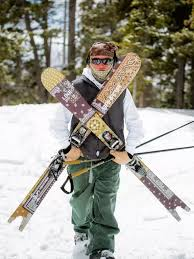skis: (6, 51, 192, 232)
